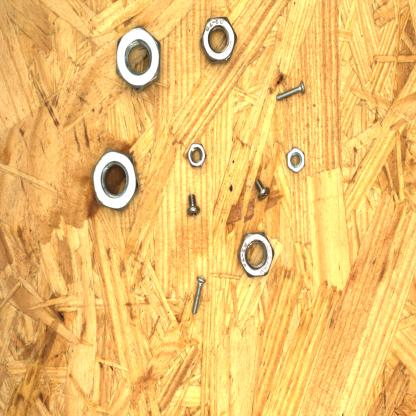screw: (189, 270, 208, 316), (274, 78, 309, 102), (252, 176, 274, 204), (183, 191, 203, 220)
